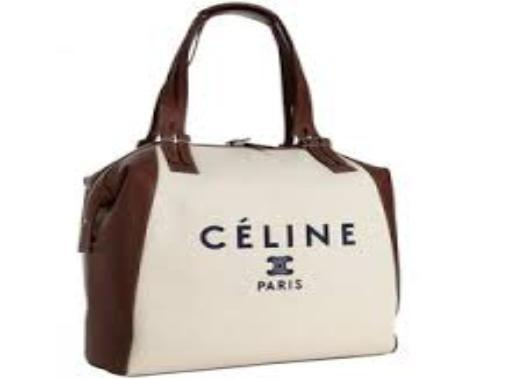CELINE: (199, 216, 357, 251)
